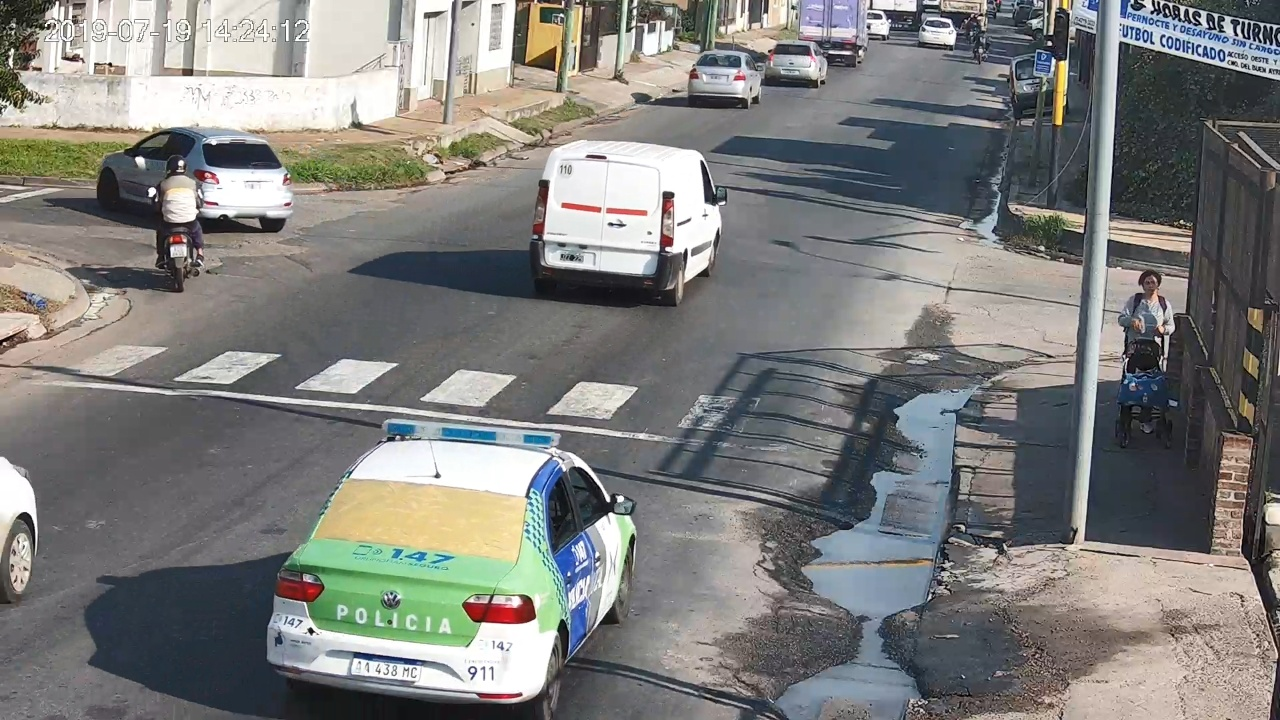car: (530, 141, 727, 308)
motorcycle: (146, 156, 205, 293)
police car: (267, 418, 638, 720)
